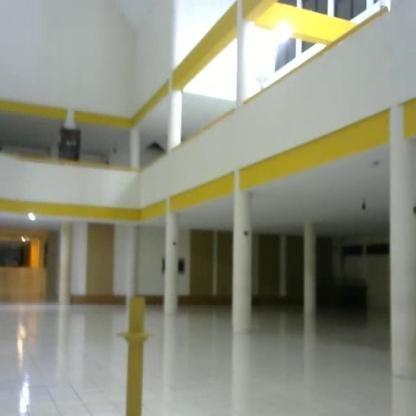pole: (109, 288, 162, 416)
